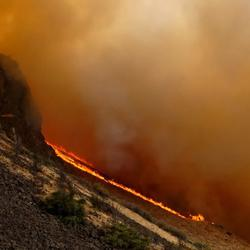fire: (48, 141, 69, 159), (72, 158, 86, 169), (189, 213, 206, 220), (106, 176, 116, 187), (128, 189, 139, 197), (154, 201, 165, 207), (92, 171, 101, 178)
smoke: (95, 21, 245, 147)
